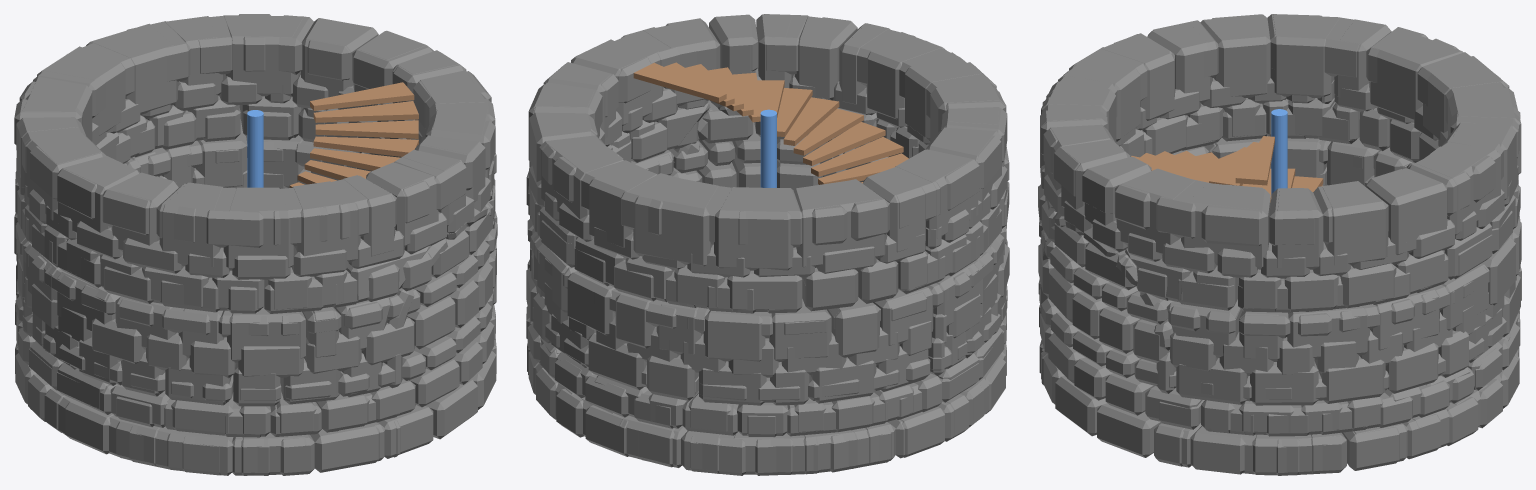
The model's file is Pieces.gltf.
The picture shows the model from 3 angles, left to right: view 1: azimuth 30°, elevation 25°; view 2: azimuth 150°, elevation 25°; view 3: azimuth 270°, elevation 25°; orthographic projection.
Visible parts, largest first — view 1: Wall B, Wall A, Stairs, Rod; view 2: Wall A, Wall B, Stairs, Rod; view 3: Wall A, Wall B, Stairs, Rod.
Part boxes in pixels (left/top/right/bottom): Wall B: left=14, top=14, right=497, bottom=475; Wall A: left=14, top=15, right=496, bottom=475; Stairs: left=289, top=82, right=418, bottom=187; Rod: left=247, top=110, right=263, bottom=187; Wall A: left=526, top=14, right=1007, bottom=475; Wall B: left=527, top=14, right=1009, bottom=474; Stairs: left=633, top=62, right=908, bottom=184; Rod: left=760, top=109, right=776, bottom=187; Wall A: left=1040, top=14, right=1521, bottom=475; Wall B: left=1038, top=14, right=1520, bottom=475; Stairs: left=1131, top=136, right=1323, bottom=202; Rod: left=1271, top=109, right=1287, bottom=195.
Bounding box in the file's own units: 14.74 × 9.07 × 14.78.
1 material, 1 textured.
